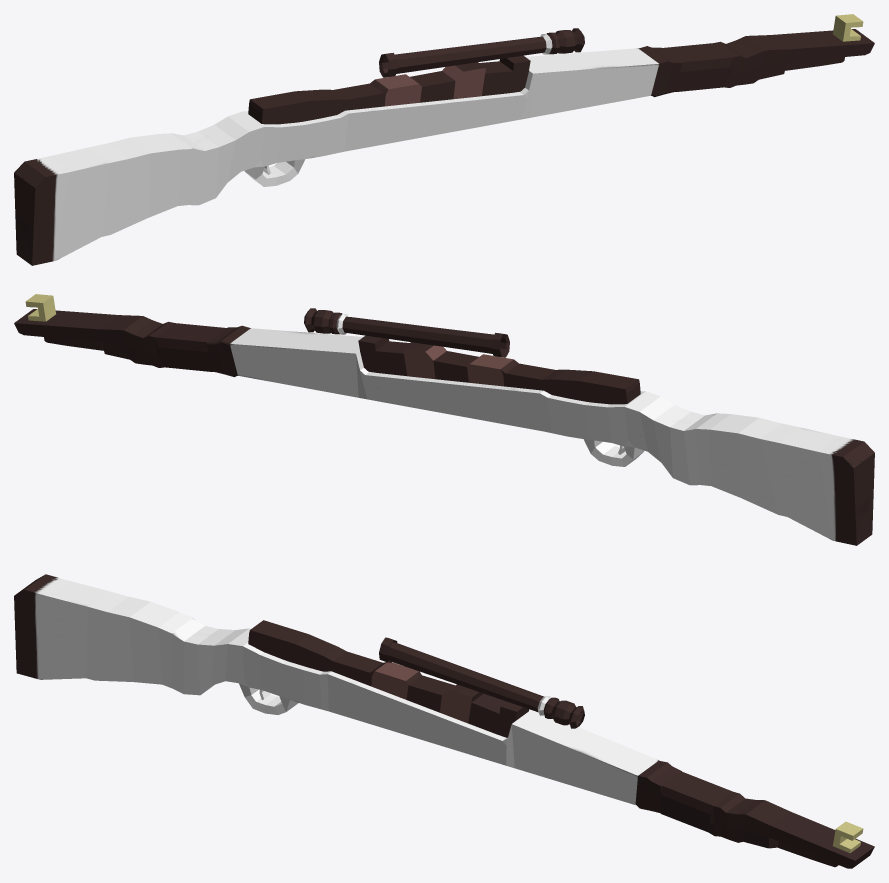
Rendered from 狙擊槍.fbx.
3 views of the same model, one above another, from view 1: azimuth 30°, elevation 25°; view 2: azimuth 150°, elevation 25°; view 3: azimuth 330°, elevation 25° (orthographic).
Parts seen in each view (by area): view 1: 槍體, 槍管2, 槍體前端2, 槍管, 槍體前端, 瞄鏡; view 2: 槍體, 槍管2, 槍體前端2, 槍管, 槍體前端, 瞄鏡; view 3: 槍體, 槍管2, 槍體前端2, 槍管, 槍體前端, 瞄鏡.
Boxes of the visible parts, x1,y1,x2,y2 form: 槍體: (14,48,658,265); 槍管2: (248,55,530,124); 槍體前端2: (662,29,874,87); 槍管: (379,28,584,77); 槍體前端: (638,46,730,97); 瞄鏡: (833,14,863,41); 槍體: (230,328,874,545); 槍管2: (358,335,640,404); 槍體前端2: (14,309,226,367); 槍管: (304,308,509,357); 槍體前端: (158,325,250,377); 瞄鏡: (25,294,55,321); 槍體: (14,574,658,804); 槍管2: (248,620,529,737); 槍體前端2: (660,771,874,868); 槍管: (379,637,584,728); 槍體前端: (635,760,710,832); 瞄鏡: (833,821,863,852).
Size of the model in its own units: 323 by 43.63 by 14.16.
5 materials, 1 textured.
